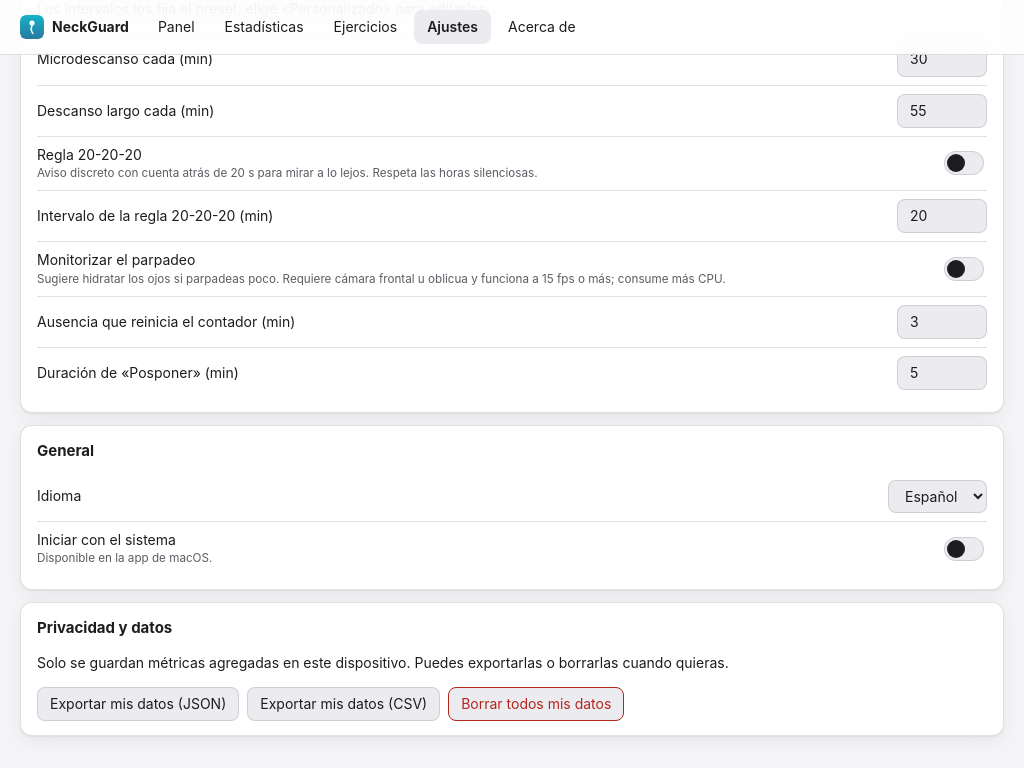
Scenario: UI: pantallas e idioma › los ajustes ofrecen exportar y borrar datos con confirmación
This screenshot has width=1024, height=768.
(page scrolled)
Expected: the button "Exportar mis datos (JSON)" is shown, [37, 687, 239, 722]
Expected: the button "Exportar mis datos (CSV)" is shown, [247, 687, 440, 722]
What coordinates should you click on to do the following:
click the button "Borrar todos mis datos"
I would click on:
 (536, 704)
Its box is [448, 687, 624, 722].
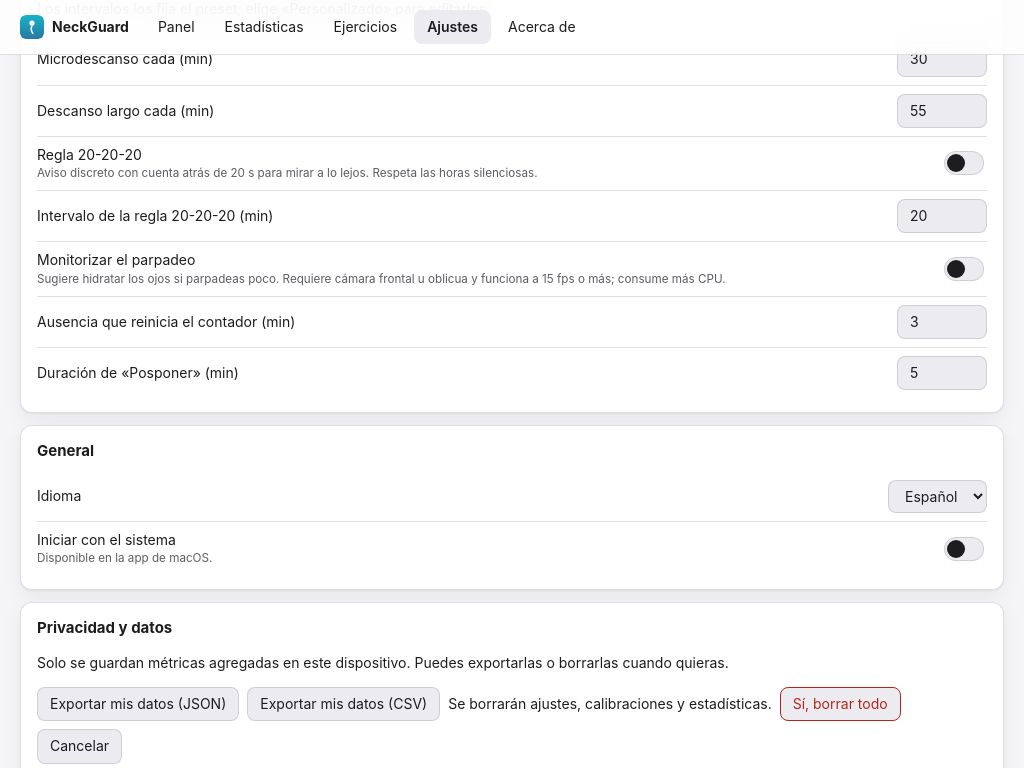
Now the text "Se borrarán ajustes" is shown, box [448, 695, 772, 712]
What coordinates should you click on to do the following:
click the button "Cancelar"
I would click on:
 (80, 747)
Its box is [37, 730, 122, 764].
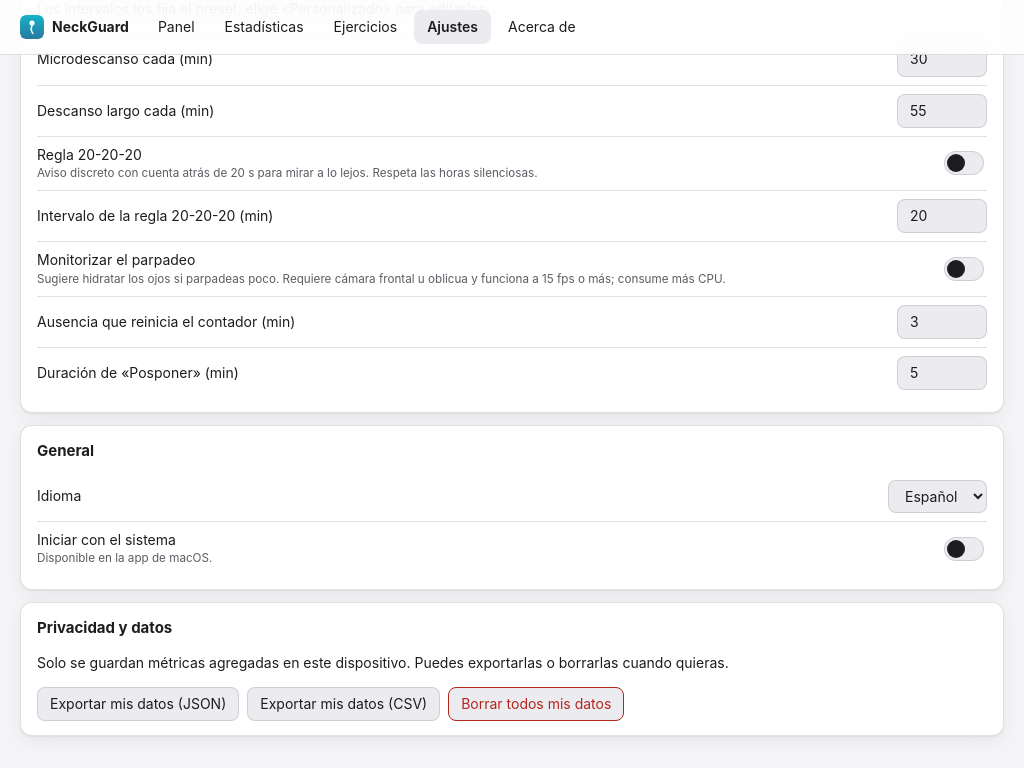
Now the text "Se borrarán ajustes" is gone
